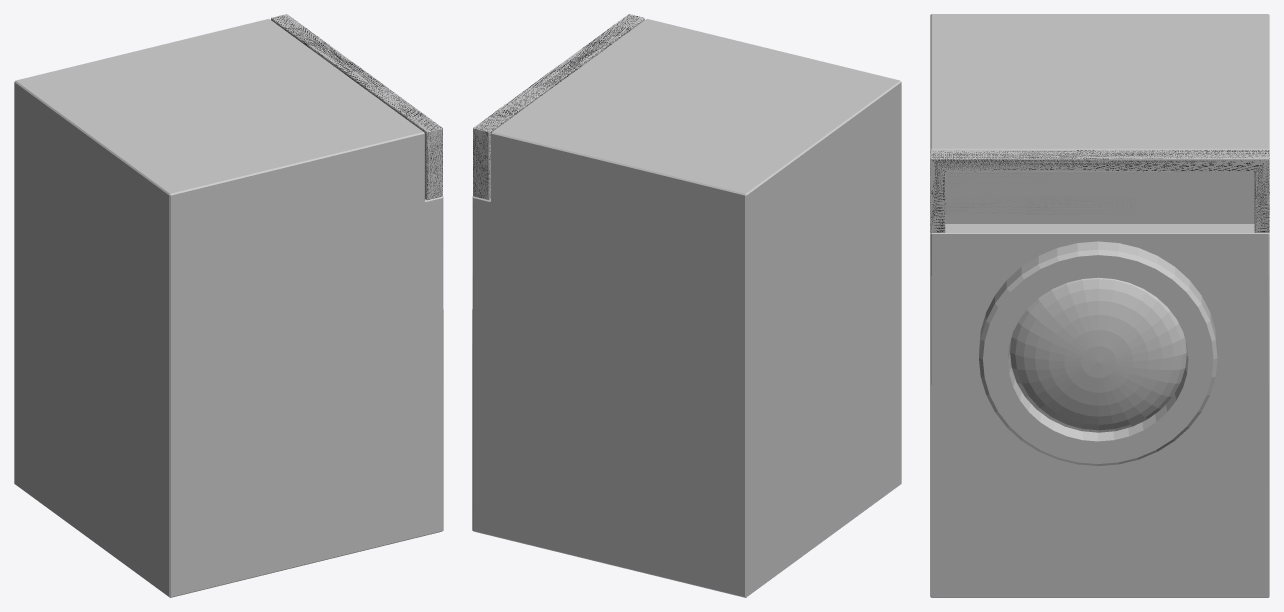
3 views of the same model, side by side, from view 1: azimuth 30°, elevation 25°; view 2: azimuth 150°, elevation 25°; view 3: azimuth 270°, elevation 25° (orthographic). The views are drawn at different scales.
Parts seen in each view (by area): view 1: mesh9.002_mesh9-geometry, mesh3.002_mesh3-geometry; view 2: mesh9.002_mesh9-geometry, mesh3.002_mesh3-geometry; view 3: mesh9.002_mesh9-geometry, mesh1.002_mesh1-geometry, mesh2.002_mesh2-geometry, mesh3.002_mesh3-geometry, mesh8.002_mesh8-geometry, mesh7.002_mesh7-geometry.
Part boxes in pixels (box(x1,y1,x2,y2)): mesh9.002_mesh9-geometry: box(14, 19, 443, 597); mesh3.002_mesh3-geometry: box(271, 14, 442, 199); mesh9.002_mesh9-geometry: box(472, 19, 901, 597); mesh3.002_mesh3-geometry: box(473, 14, 644, 199); mesh9.002_mesh9-geometry: box(930, 14, 1269, 597); mesh1.002_mesh1-geometry: box(1010, 277, 1186, 432); mesh2.002_mesh2-geometry: box(979, 241, 1217, 465); mesh3.002_mesh3-geometry: box(930, 150, 1269, 232); mesh8.002_mesh8-geometry: box(946, 171, 1136, 214); mesh7.002_mesh7-geometry: box(1137, 171, 1253, 214).
Bounding box in the file's own units: 0.5361 × 0.6916 × 0.4841.
